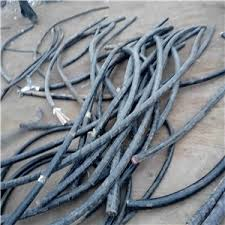more_tube: (12, 129, 208, 219), (121, 27, 216, 132), (26, 13, 115, 98)
